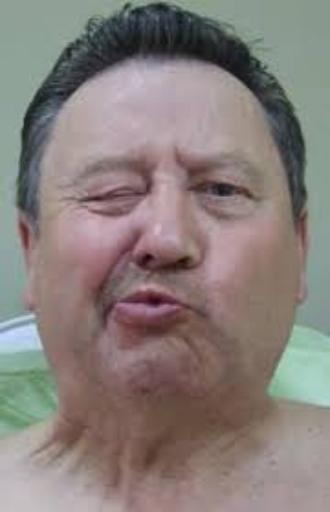left_eye: (194, 183, 254, 212)
left_lip_corner: (169, 289, 204, 319)
right_eye: (78, 183, 142, 209)
right_lip_corner: (103, 293, 132, 318)
